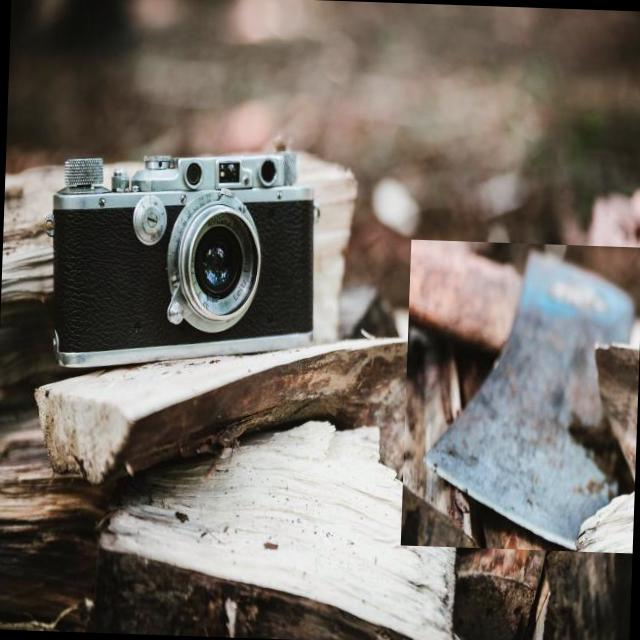Axe: (408, 239, 634, 551)
